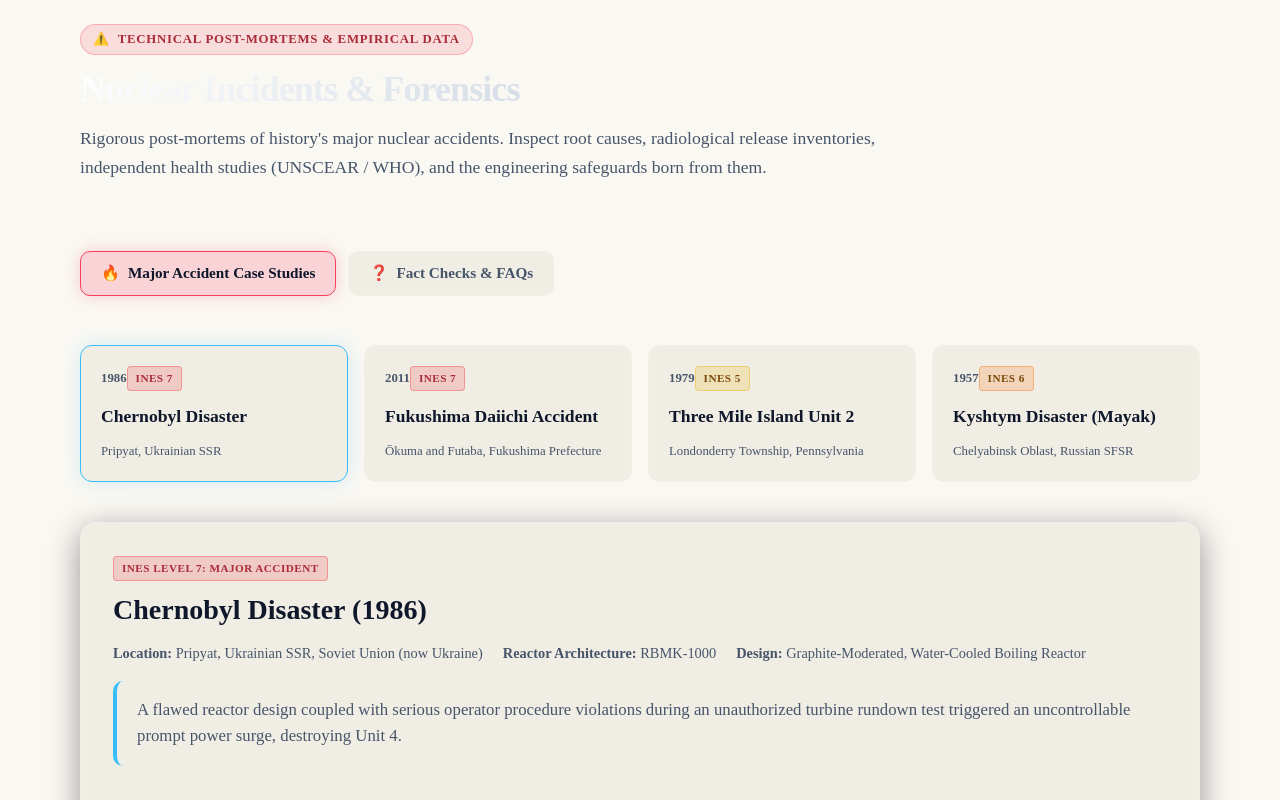
it: IncidentViewer Component › switches to Fact Checks & FAQs mode and filters questions
The width and height of the screenshot is (1280, 800).
Click the tab "❓ Fact Checks & FAQs" at (451, 273), box [348,251,554,296]
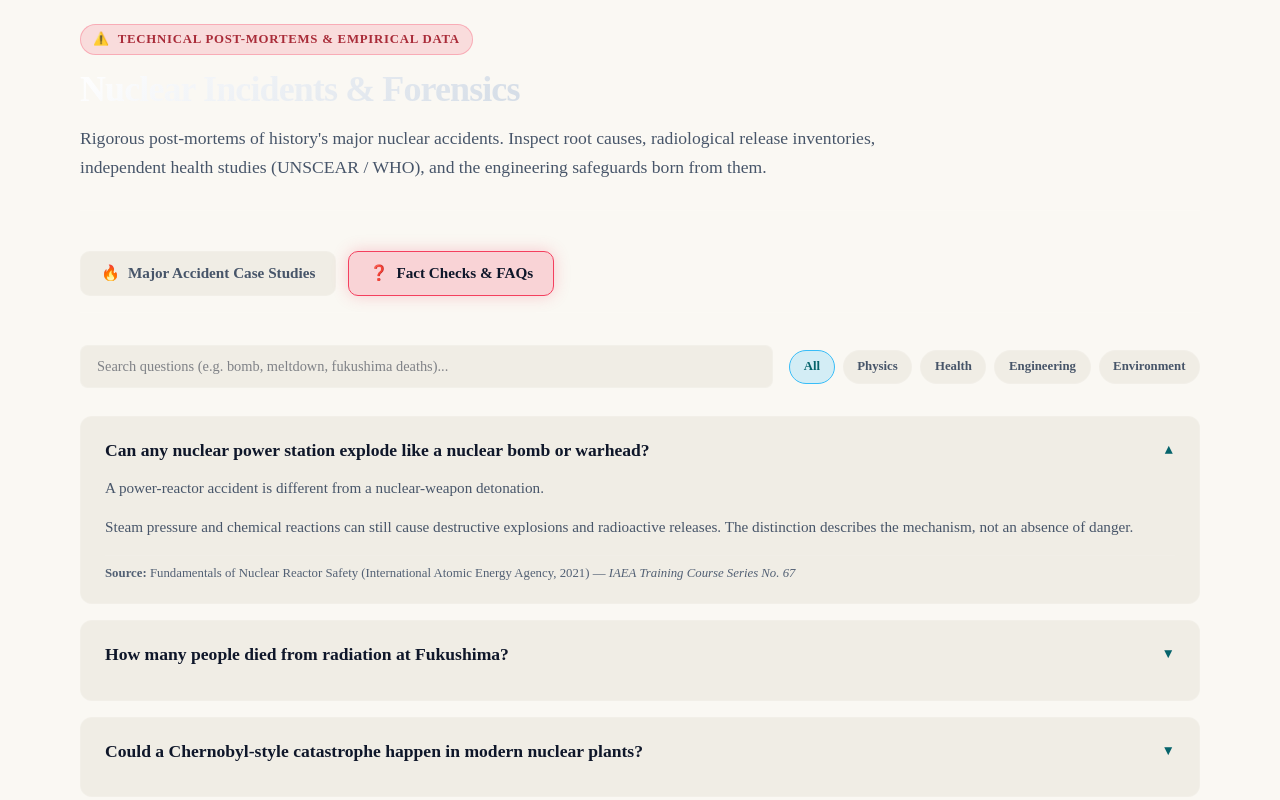
// Search for "bomb"
Type "bomb" into the field with placeholder "Search questions (e.g. bomb, meltdown, fukushima deaths)..." at (427, 367), box [80,345,773,388]
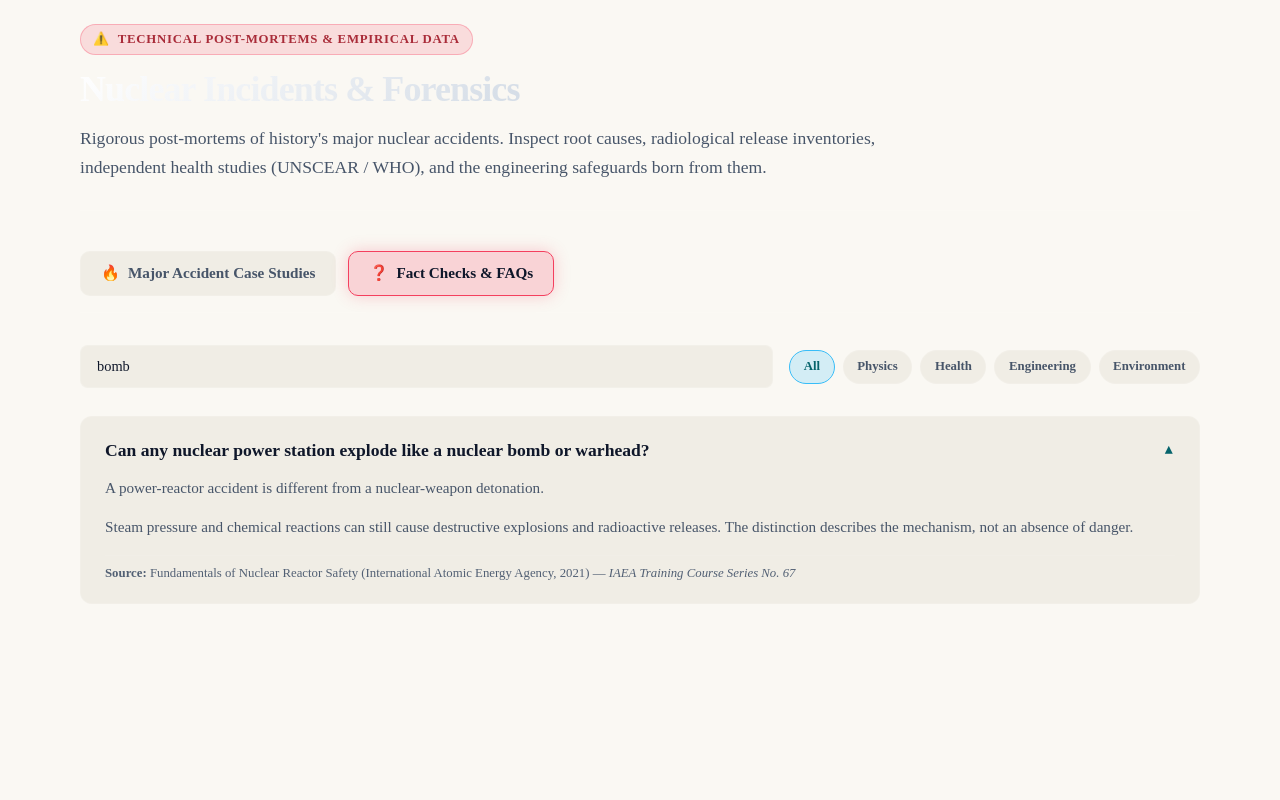
Expected: the text "Can any nuclear power station explode like a nuclear bomb" is shown, [105,440,650,460]
// Toggle category filter
Click the button "Health" at (953, 367), box [920,350,986,384]
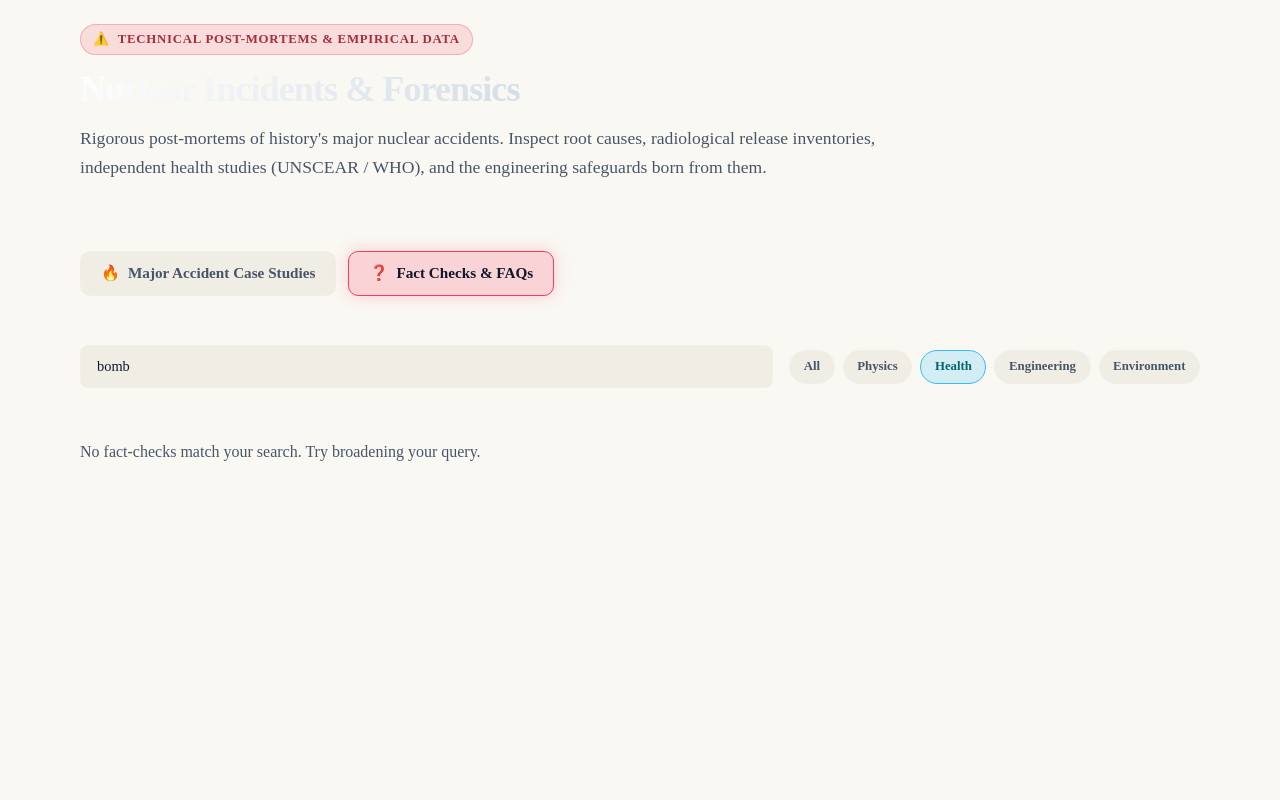
Expected: the button "Can any nuclear power station explode like a nuclear bomb" is gone
